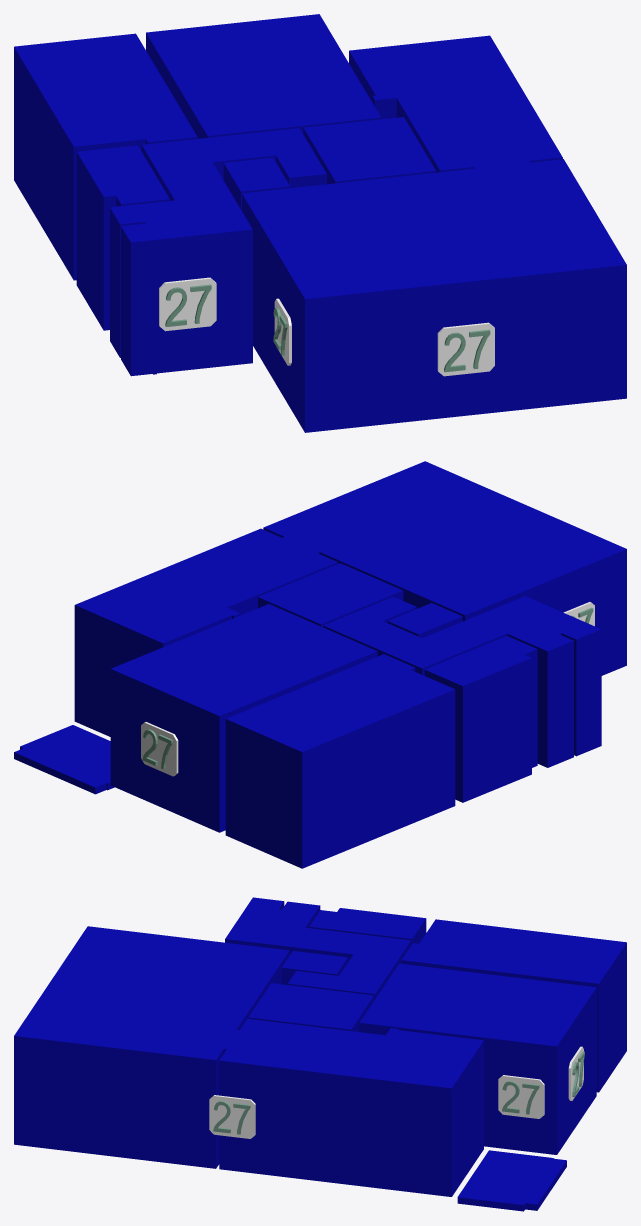
The picture shows the model from 3 angles, top to bottom: view 1: azimuth 30°, elevation 25°; view 2: azimuth 150°, elevation 25°; view 3: azimuth 270°, elevation 25°; orthographic projection. The views are drawn at different scales.
Visible parts, largest first — view 1: g_1, g_7, g_4, g_3, g_0, g_5, g_2, g_11, g_26, g_6, g_20; view 2: g_4, g_1, g_3, g_0, g_7, g_5, g_2, g_8, g_6, g_14; view 3: g_1, g_0, g_3, g_4, g_7, g_8, g_2, g_5, g_17, g_23, g_6.
Boxes of the visible parts, bbox=[...] form: g_1: bbox=[242, 159, 626, 432]; g_7: bbox=[110, 128, 326, 376]; g_4: bbox=[14, 33, 197, 280]; g_3: bbox=[146, 14, 381, 138]; g_0: bbox=[349, 35, 562, 172]; g_5: bbox=[76, 145, 169, 330]; g_2: bbox=[303, 117, 436, 184]; g_11: bbox=[159, 277, 216, 331]; g_26: bbox=[437, 322, 494, 376]; g_6: bbox=[223, 157, 290, 210]; g_20: bbox=[274, 298, 291, 365]; g_4: bbox=[225, 654, 455, 868]; g_1: bbox=[263, 461, 626, 675]; g_3: bbox=[110, 604, 377, 832]; g_0: bbox=[74, 528, 337, 736]; g_7: bbox=[323, 596, 601, 767]; g_5: bbox=[424, 636, 537, 802]; g_2: bbox=[258, 563, 403, 627]; g_8: bbox=[14, 725, 114, 794]; g_6: bbox=[387, 603, 462, 638]; g_14: bbox=[141, 722, 178, 776]; g_1: bbox=[14, 926, 289, 1168]; g_0: bbox=[219, 1018, 483, 1196]; g_3: bbox=[359, 963, 596, 1154]; g_4: bbox=[401, 919, 626, 1092]; g_7: bbox=[225, 897, 411, 999]; g_8: bbox=[457, 1150, 566, 1211]; g_2: bbox=[248, 983, 374, 1031]; g_5: bbox=[309, 908, 426, 944]; g_17: bbox=[498, 1075, 544, 1118]; g_23: bbox=[209, 1095, 255, 1138]; g_6: bbox=[281, 951, 347, 984].
Size of the model in its own units: 10.08 by 2.74 by 13.16.
